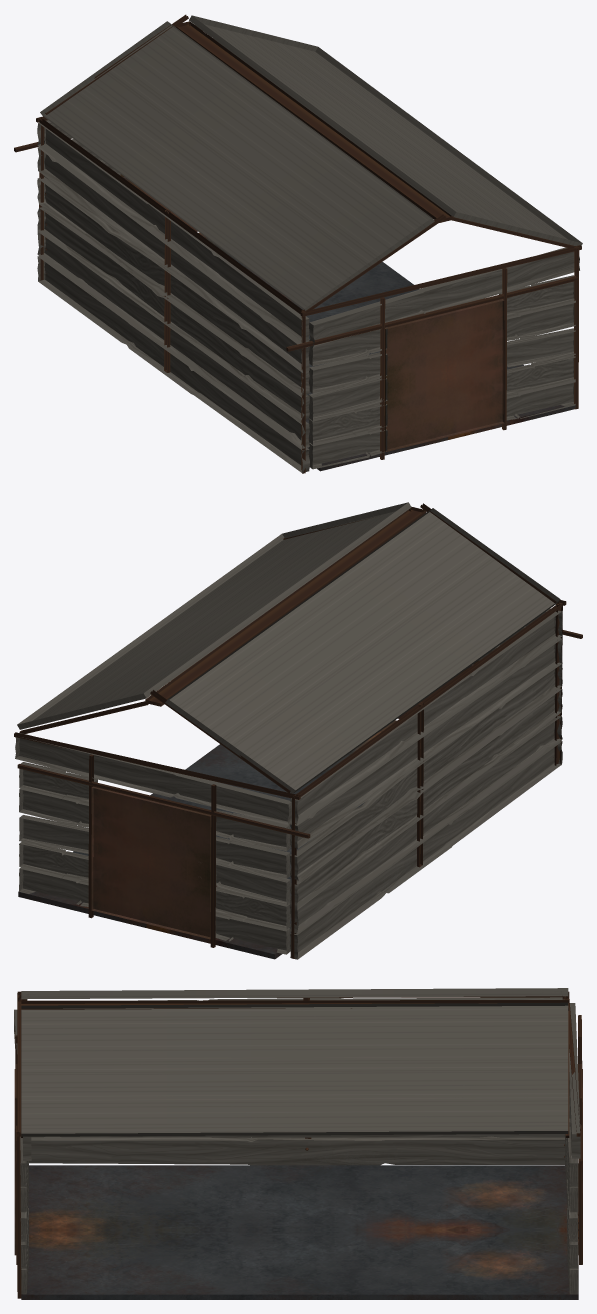
The model's file is 1_1_SHELL.fbx.
3 views of the same model, one above another, from view 1: azimuth 30°, elevation 25°; view 2: azimuth 150°, elevation 25°; view 3: azimuth 270°, elevation 25° (orthographic). The views are drawn at different scales.
Parts seen in each view (by area): view 1: Roof1, Roof10, D0oor3, Plank51, Plank53, Plank30, Plank28, Plank52, Plank29, Plank56, SupportBeam45, pCube3 (+19 smaller); view 2: Roof1, Roof10, D0oor, Plank51, Plank30, Plank53, Plank28, Plank52, Plank64, Plank29, pCube3, SupportBeam45 (+19 smaller); view 3: pCube3, Roof10, Plank28, Roof1, SupportBeam45, Plank29, Plank64, Plank53, SupportBeam38, SupportBeam43, SupportBeam41, Plank65.
Part boxes in pixels (box(x1,y1,x2,y2)): Roof1: box(40, 21, 434, 310); Roof10: box(189, 15, 582, 245); D0oor3: box(384, 299, 504, 451); Plank51: box(37, 176, 309, 395); Plank53: box(37, 122, 309, 343); Plank30: box(37, 207, 309, 420); Plank28: box(37, 256, 309, 472); Plank52: box(37, 147, 309, 372); Plank29: box(37, 229, 309, 448); Plank56: box(309, 247, 579, 346); SupportBeam45: box(176, 21, 453, 222); pCube3: box(198, 232, 575, 471); Roof1: box(165, 508, 560, 793); Roof10: box(17, 502, 411, 729); D0oor: box(91, 786, 211, 939); Plank51: box(290, 663, 562, 880); Plank30: box(290, 688, 562, 910); Plank53: box(290, 610, 562, 823); Plank28: box(290, 741, 562, 959); Plank52: box(290, 638, 562, 848); Plank64: box(15, 733, 291, 825); Plank29: box(290, 716, 562, 933); pCube3: box(18, 720, 396, 959); SupportBeam45: box(145, 506, 426, 706); pCube3: box(21, 1165, 578, 1299); Roof10: box(21, 1002, 568, 1136); Plank28: box(29, 1136, 564, 1165); Roof1: box(21, 988, 568, 999); SupportBeam45: box(21, 1000, 568, 1010); Plank29: box(31, 1134, 564, 1137); Plank64: box(569, 1003, 580, 1158); Plank53: box(138, 997, 564, 1000); SupportBeam38: box(16, 1130, 21, 1298); SupportBeam43: box(17, 991, 21, 1136); SupportBeam41: box(578, 1096, 582, 1264); Plank65: box(567, 1126, 578, 1187).
Size of the model in its own units: 481 by 361 by 771.
